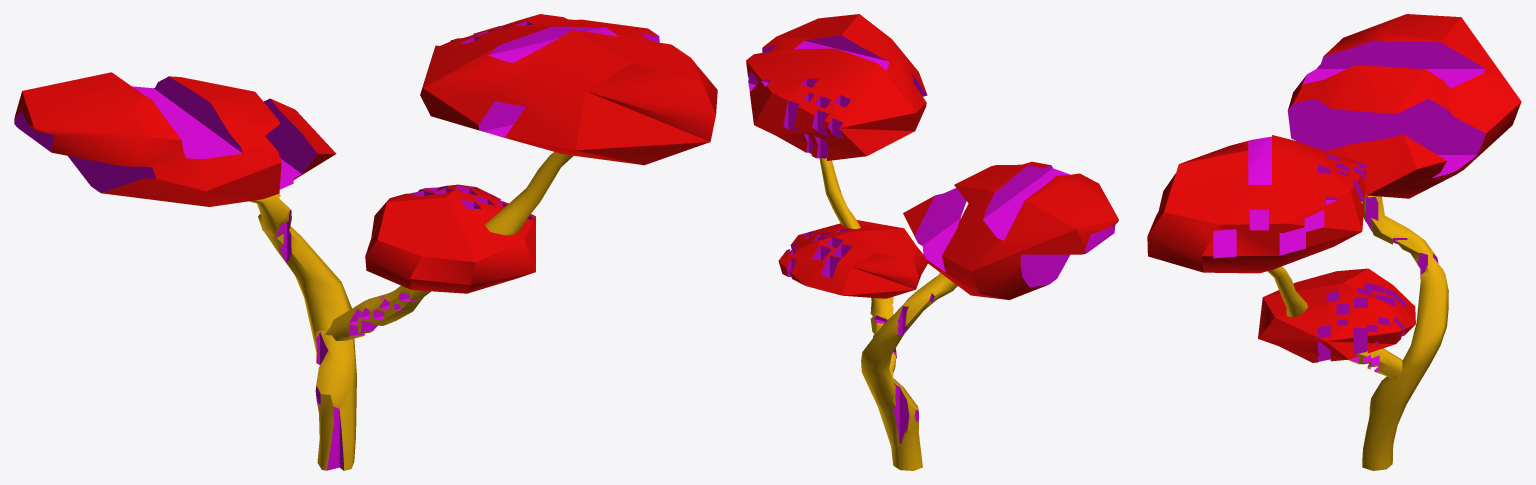
The model's file is Tree_4_Glitch.fbx.
3 renders of one model, left to right at view 1: azimuth 30°, elevation 25°; view 2: azimuth 150°, elevation 25°; view 3: azimuth 270°, elevation 25°, orthographic. The views are drawn at different scales.
Visible parts, largest first — view 1: Tree_4_Glitch; view 2: Tree_4_Glitch; view 3: Tree_4_Glitch.
Boxes of the visible parts, bbox=[...] form: Tree_4_Glitch: bbox=[14, 14, 717, 470]; Tree_4_Glitch: bbox=[746, 14, 1118, 470]; Tree_4_Glitch: bbox=[1147, 14, 1521, 470].
Bounding box in the file's own units: 8.46 × 6.47 × 5.77.
